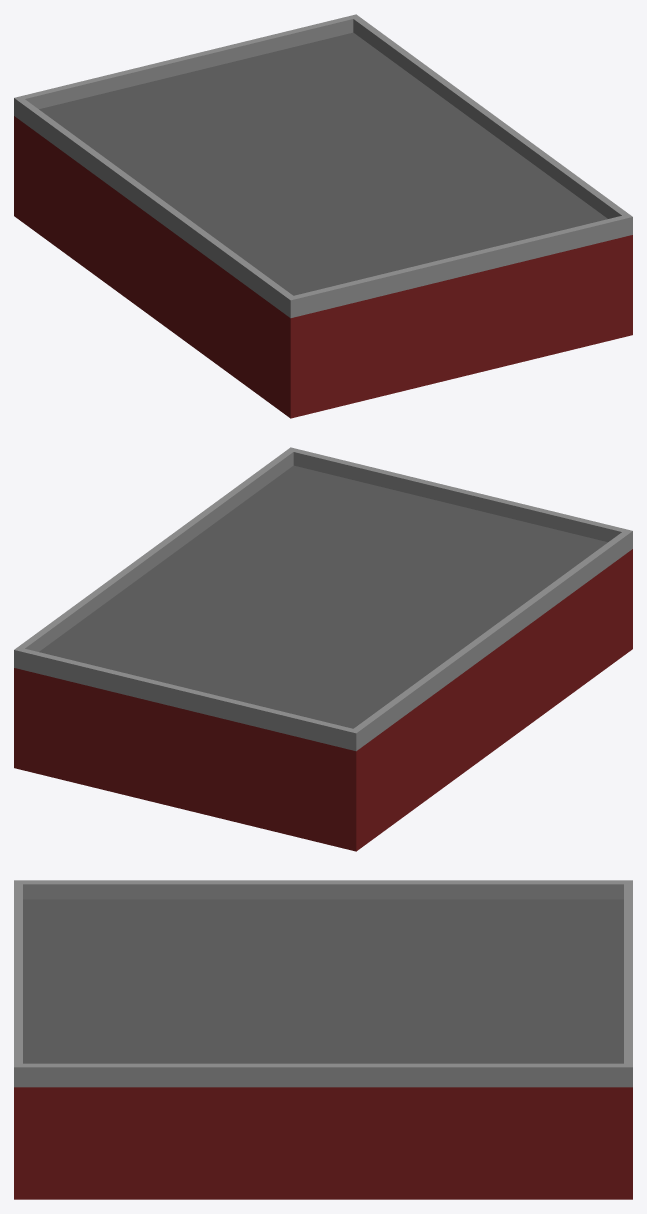
File: Building_25_35_70.FBX
3 views of the same model, one above another, from view 1: azimuth 30°, elevation 25°; view 2: azimuth 150°, elevation 25°; view 3: azimuth 270°, elevation 25° (orthographic). The views are drawn at different scales.
Parts seen in each view (by area): view 1: BakedBuilding_2014741032848378; view 2: BakedBuilding_2014741032848378; view 3: BakedBuilding_2014741032848378.
Boxes of the visible parts, x1=… form: BakedBuilding_2014741032848378: x1=14, y1=14, x2=632, y2=418; BakedBuilding_2014741032848378: x1=14, y1=447, x2=632, y2=851; BakedBuilding_2014741032848378: x1=14, y1=880, x2=632, y2=1199.
Size of the model in its own units: 2500 by 825 by 3500.
